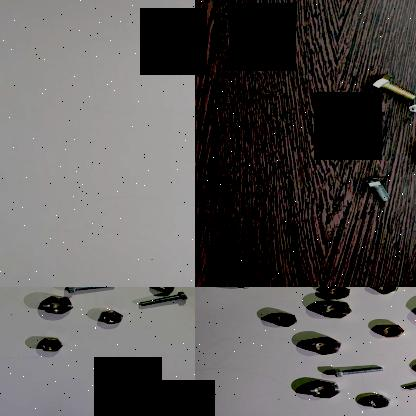Bolts: (363, 71, 416, 100), (135, 289, 189, 309), (321, 362, 389, 377), (363, 172, 394, 204), (321, 96, 350, 116), (59, 287, 121, 293), (400, 372, 416, 392)
NUTS: (301, 332, 346, 356), (36, 290, 74, 318), (299, 376, 341, 398), (26, 334, 68, 354), (320, 300, 357, 320), (268, 312, 300, 332), (360, 391, 392, 409), (97, 308, 131, 324), (315, 287, 357, 299), (378, 322, 406, 339), (372, 287, 400, 295), (149, 287, 181, 292)
